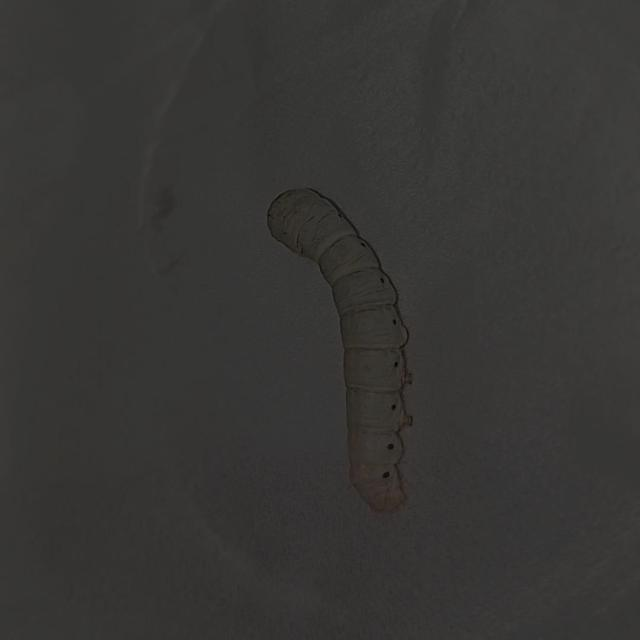Healthy: (252, 165, 457, 527)
